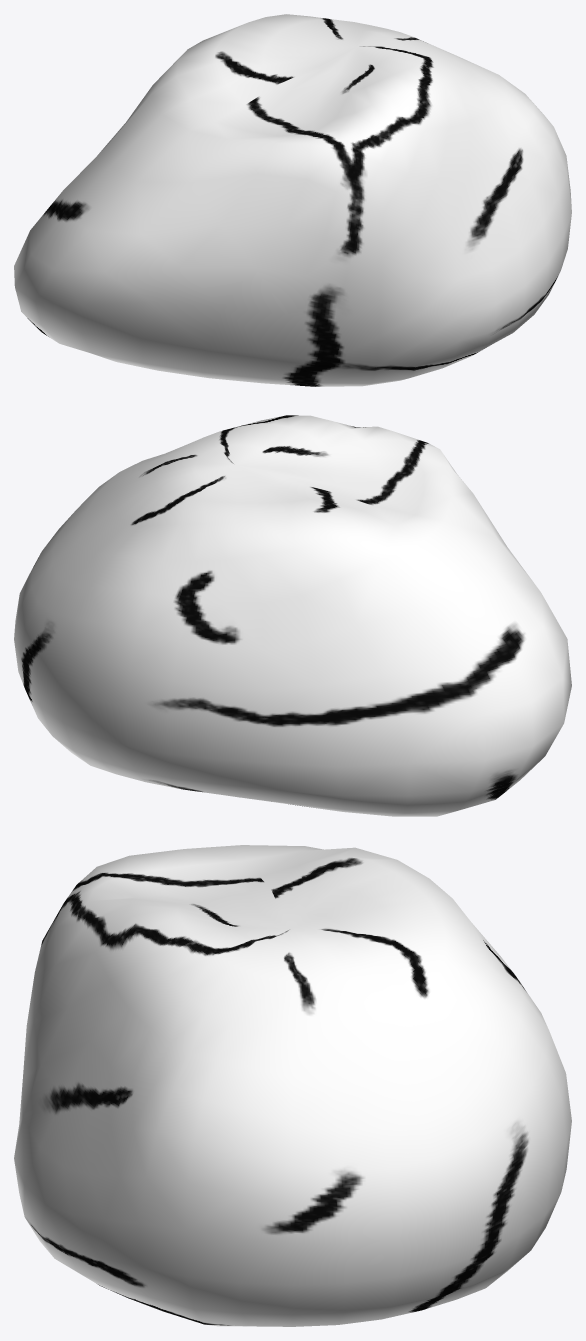
The model's file is rock1.obj.
The picture shows the model from 3 angles, top to bottom: view 1: azimuth 30°, elevation 25°; view 2: azimuth 150°, elevation 25°; view 3: azimuth 270°, elevation 25°; orthographic projection. The views are drawn at different scales.
Parts seen in each view (by area): view 1: Sphere; view 2: Sphere; view 3: Sphere.
Boxes of the visible parts, <box> form: Sphere: <box>14,14,571,386</box>; Sphere: <box>14,415,571,816</box>; Sphere: <box>14,845,571,1326</box>.
Bounding box in the file's own units: 0.503 × 0.2787 × 0.3807.
